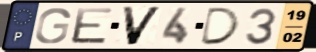3: (244, 6, 279, 46)
4: (159, 6, 191, 46)
D: (198, 6, 243, 46)
E: (70, 6, 116, 46)
G: (33, 7, 73, 45)
V: (120, 5, 165, 47)
